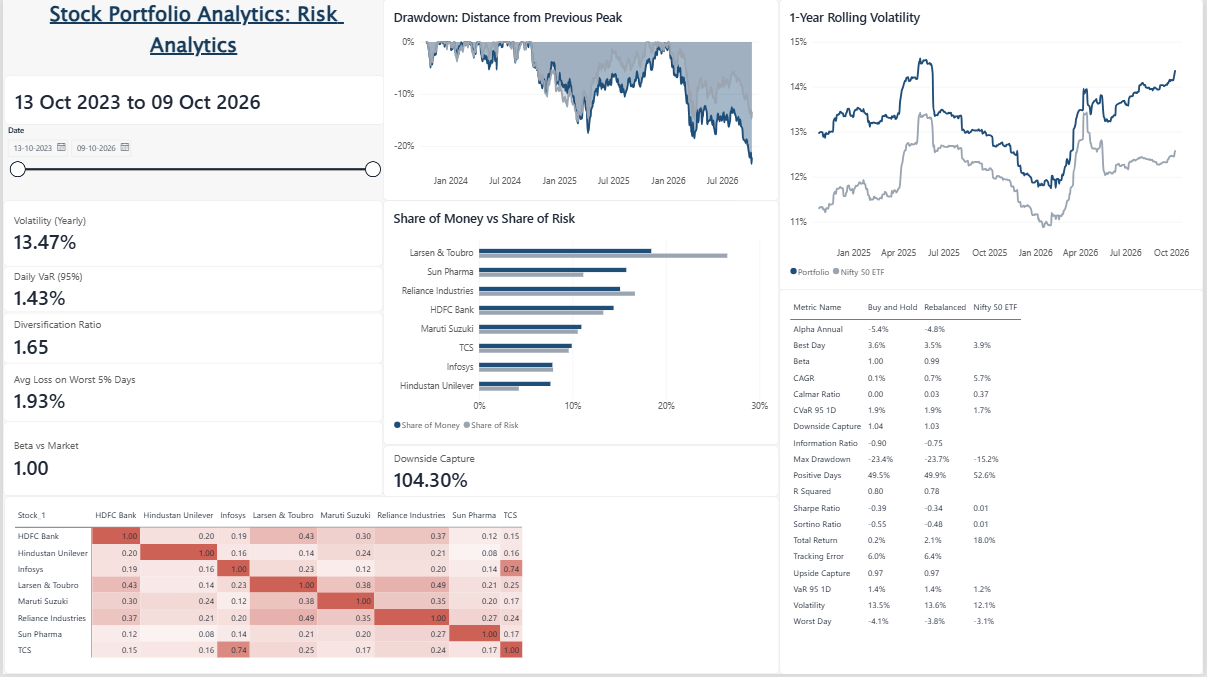

The page's visual inventory and layout, read from the dashboard file:
{"tool":"powerbi","page":{"name":"Risk Analytics","canvas":[1920,1080],"ordinal":1},"visuals":[{"type":"textbox","box":[1.8,0,606.2,121.2],"z":0},{"type":"slicer","fields":{"Values":["Calendar.Date"]},"box":[0,202,608,120],"z":1000},{"type":"cardVisual","title":"Volatility (Yearly)","fields":{"Data":["_Measures.Volatility"]},"box":[0,322.1,608,106.8],"z":2000},{"type":"cardVisual","title":"Daily VaR (95%)","fields":{"Data":["_Measures.VaR 95"]},"box":[0,428.9,608,72.4],"z":3000},{"type":"cardVisual","title":"Avg Loss on Worst 5% Days","fields":{"Data":["_Measures.CVaR 95"]},"box":[0,582.7,608,94.1],"z":4000},{"type":"cardVisual","fields":{"Data":["_Measures.Downside Capture"]},"box":[608,713,633.4,83.2],"z":5000},{"type":"cardVisual","title":"Beta vs Market","fields":{"Data":["_Measures.Beta"]},"box":[0,676.8,608,119.4],"z":6000},{"type":"cardVisual","fields":{"Data":["_Measures.Diversification Ratio"]},"box":[0,501.3,608,81.4],"z":7000},{"type":"cardVisual","fields":{"Data":["_Measures.Period Label"]},"box":[1.8,121.2,609.9,79.6],"z":10000},{"type":"areaChart","title":"Drawdown: Distance from Previous Peak","fields":{"Category":["Calendar.Date"],"Y":["Sum(portfolio_timeseries.Portfolio_Drawdown)","Sum(portfolio_timeseries.Benchmark_Drawdown)"]},"box":[608,0,633.4,322.1],"z":10001},{"type":"lineChart","title":"1-Year Rolling Volatility","fields":{"Category":["Calendar.Date"],"Y":["Sum(rolling_metrics.Rolling_Volatility_Portfolio)","Sum(rolling_metrics.Rolling_Volatility_Benchmark)"]},"box":[1241.4,0,678.6,466.9],"z":10002},{"type":"clusteredBarChart","title":"Share of Money vs Share of Risk","fields":{"Category":["risk_contribution.Company"],"Y":["Sum(risk_contribution.Weight)","Sum(risk_contribution.Risk_Contribution)"]},"box":[608,322.1,633.4,390.9],"z":10003},{"type":"pivotTable","fields":{"Columns":["correlation_matrix.Stock_2"],"Rows":["correlation_matrix.Stock_1"],"Values":["Sum(correlation_matrix.Correlation)"]},"box":[1.8,796.3,1239.6,284.1],"z":10004},{"type":"tableEx","fields":{"Values":["scorecard.Metric Name","_Measures.Buy and Hold","_Measures.Rebalanced","_Measures.Nifty 50 ETF"]},"box":[1241.4,463.3,678.6,617.1],"z":10005}]}

Visuals, with their boxes in screenshot pixels (x1, y1, x2, y2), scaled from the page's 1920x1080 canvas onto the 1207x677 screenshot:
textbox: pyautogui.locateOnScreen(1, 0, 382, 76)
slicer - Calendar.Date: pyautogui.locateOnScreen(0, 127, 382, 202)
"Volatility (Yearly)" cardVisual: pyautogui.locateOnScreen(0, 202, 382, 269)
"Daily VaR (95%)" cardVisual: pyautogui.locateOnScreen(0, 269, 382, 314)
"Avg Loss on Worst 5% Days" cardVisual: pyautogui.locateOnScreen(0, 365, 382, 424)
cardVisual - _Measures.Downside Capture: pyautogui.locateOnScreen(382, 447, 780, 499)
"Beta vs Market" cardVisual: pyautogui.locateOnScreen(0, 424, 382, 499)
cardVisual - _Measures.Diversification Ratio: pyautogui.locateOnScreen(0, 314, 382, 365)
cardVisual - _Measures.Period Label: pyautogui.locateOnScreen(1, 76, 385, 126)
"Drawdown: Distance from Previous Peak" areaChart: pyautogui.locateOnScreen(382, 0, 780, 202)
"1-Year Rolling Volatility" lineChart: pyautogui.locateOnScreen(780, 0, 1206, 293)
"Share of Money vs Share of Risk" clusteredBarChart: pyautogui.locateOnScreen(382, 202, 780, 447)
pivotTable - correlation_matrix.Stock_2 x correlation_matrix.Stock_1: pyautogui.locateOnScreen(1, 499, 780, 676)
tableEx - scorecard.Metric Name x _Measures.Buy and Hold: pyautogui.locateOnScreen(780, 290, 1206, 676)
